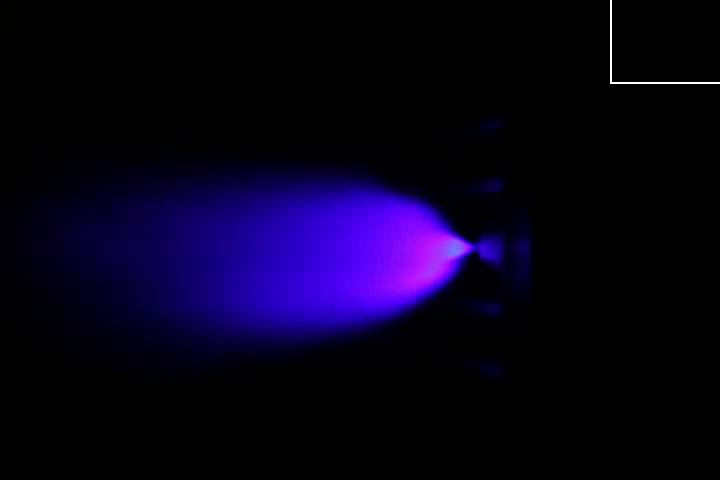burner cap: (473, 232, 507, 265)
stable: (364, 211, 474, 291)
